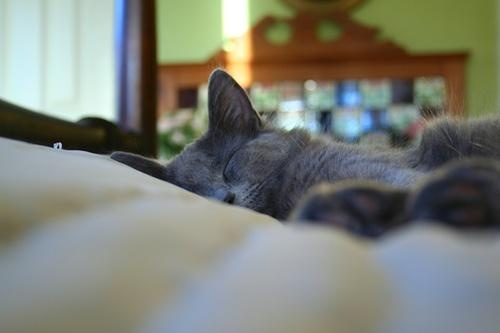cat: (111, 67, 500, 239)
